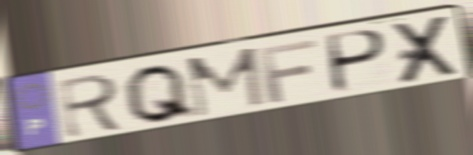F: (256, 37, 320, 106)
M: (184, 44, 268, 121)
P: (327, 28, 390, 97)
Q: (122, 62, 200, 126)
R: (56, 71, 128, 141)
X: (390, 12, 463, 88)
